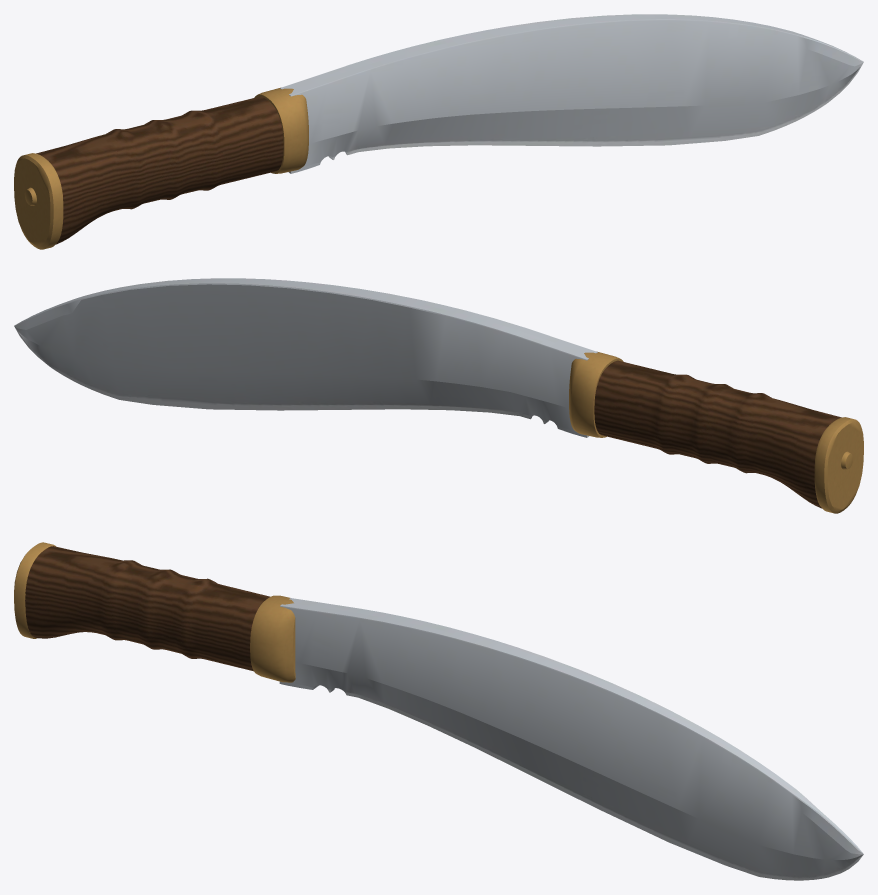
Rendered from kukri_lod1.glb.
The picture shows the model from 3 angles, top to bottom: view 1: azimuth 30°, elevation 25°; view 2: azimuth 150°, elevation 25°; view 3: azimuth 330°, elevation 25°; orthographic projection.
Visible parts, largest first — view 1: body; view 2: body; view 3: body.
Part boxes in pixels (x1,y1,x2,y2): body: [14, 14, 863, 249]; body: [14, 278, 863, 513]; body: [14, 542, 863, 880].
Size of the model in its own units: 0.37 by 0.0716 by 0.0301.
4 materials, 4 textured.
